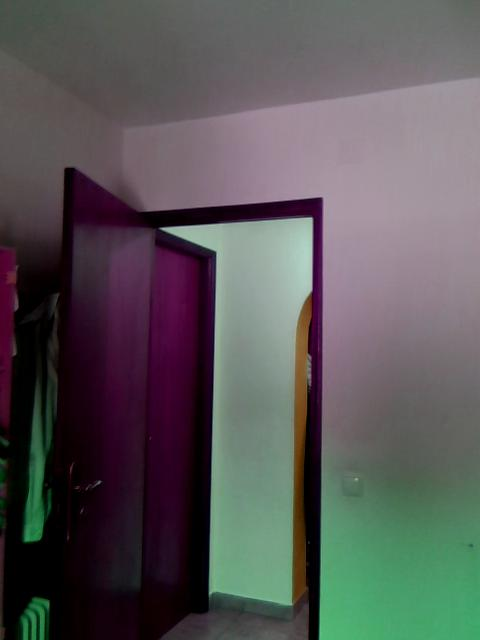open_door: (129, 196, 322, 632)
